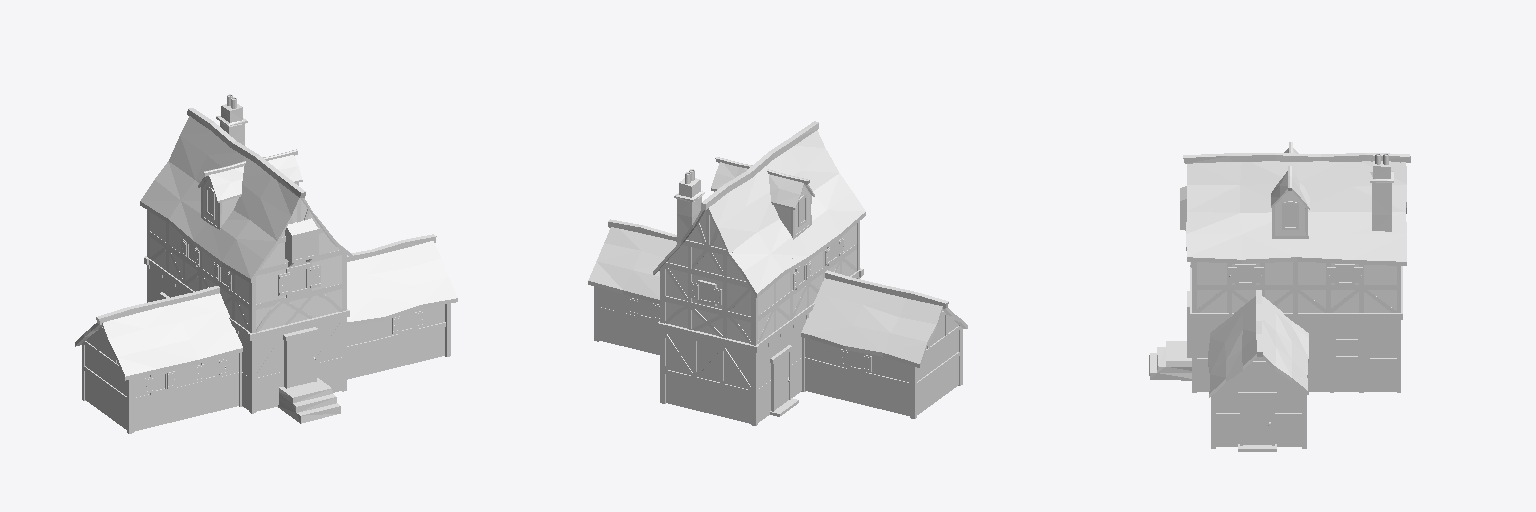
The model's file is stoneHouse.obj.
3 renders of one model, left to right at view 1: azimuth 30°, elevation 25°; view 2: azimuth 150°, elevation 25°; view 3: azimuth 270°, elevation 25°, orthographic.
Visible parts, largest first — view 1: Roof, Level1, WoodenBeams, Level2, RoofFrame, WindowFrames, Steps, DoorFront, Chimney, DoorFrontFrame; view 2: Roof, Level1, WoodenBeams, Level2, RoofFrame, WindowFrames, Chimney, DoorBack; view 3: Roof, Level1, WoodenBeams, Level2, RoofFrame, WindowFrames, Steps, Chimney, DoorSide, Level3, Window1Level1.
Boxes of the visible parts, x1=… form: Roof: x1=103, y1=116, x2=457, y2=376; Level1: x1=85, y1=269, x2=444, y2=431; WoodenBeams: x1=82, y1=176, x2=450, y2=433; Level2: x1=150, y1=200, x2=341, y2=330; RoofFrame: x1=75, y1=108, x2=457, y2=380; WindowFrames: x1=145, y1=187, x2=422, y2=394; Steps: x1=278, y1=378, x2=340, y2=423; DoorFront: x1=289, y1=334, x2=313, y2=387; Chimney: x1=216, y1=104, x2=247, y2=145; DoorFrontFrame: x1=283, y1=327, x2=317, y2=388; Roof: x1=588, y1=130, x2=942, y2=363; Level1: x1=599, y1=288, x2=958, y2=423; WoodenBeams: x1=594, y1=185, x2=962, y2=425; Level2: x1=666, y1=211, x2=856, y2=342; RoofFrame: x1=588, y1=121, x2=967, y2=367; WindowFrames: x1=630, y1=195, x2=871, y2=372; Chimney: x1=674, y1=178, x2=704, y2=243; DoorBack: x1=775, y1=353, x2=788, y2=409; Roof: x1=1186, y1=148, x2=1406, y2=393; Level1: x1=1197, y1=322, x2=1396, y2=446; WoodenBeams: x1=1190, y1=191, x2=1402, y2=448; Level2: x1=1197, y1=262, x2=1396, y2=312; RoofFrame: x1=1183, y1=142, x2=1410, y2=397; WindowFrames: x1=1180, y1=186, x2=1362, y2=357; Steps: x1=1149, y1=341, x2=1191, y2=380; Chimney: x1=1370, y1=161, x2=1393, y2=231; DoorSide: x1=1243, y1=397, x2=1271, y2=444; Level3: x1=1275, y1=191, x2=1305, y2=235; Window1Level1: x1=1336, y1=324, x2=1357, y2=355.
Size of the model in its own units: 15.09 by 9.79 by 10.13.